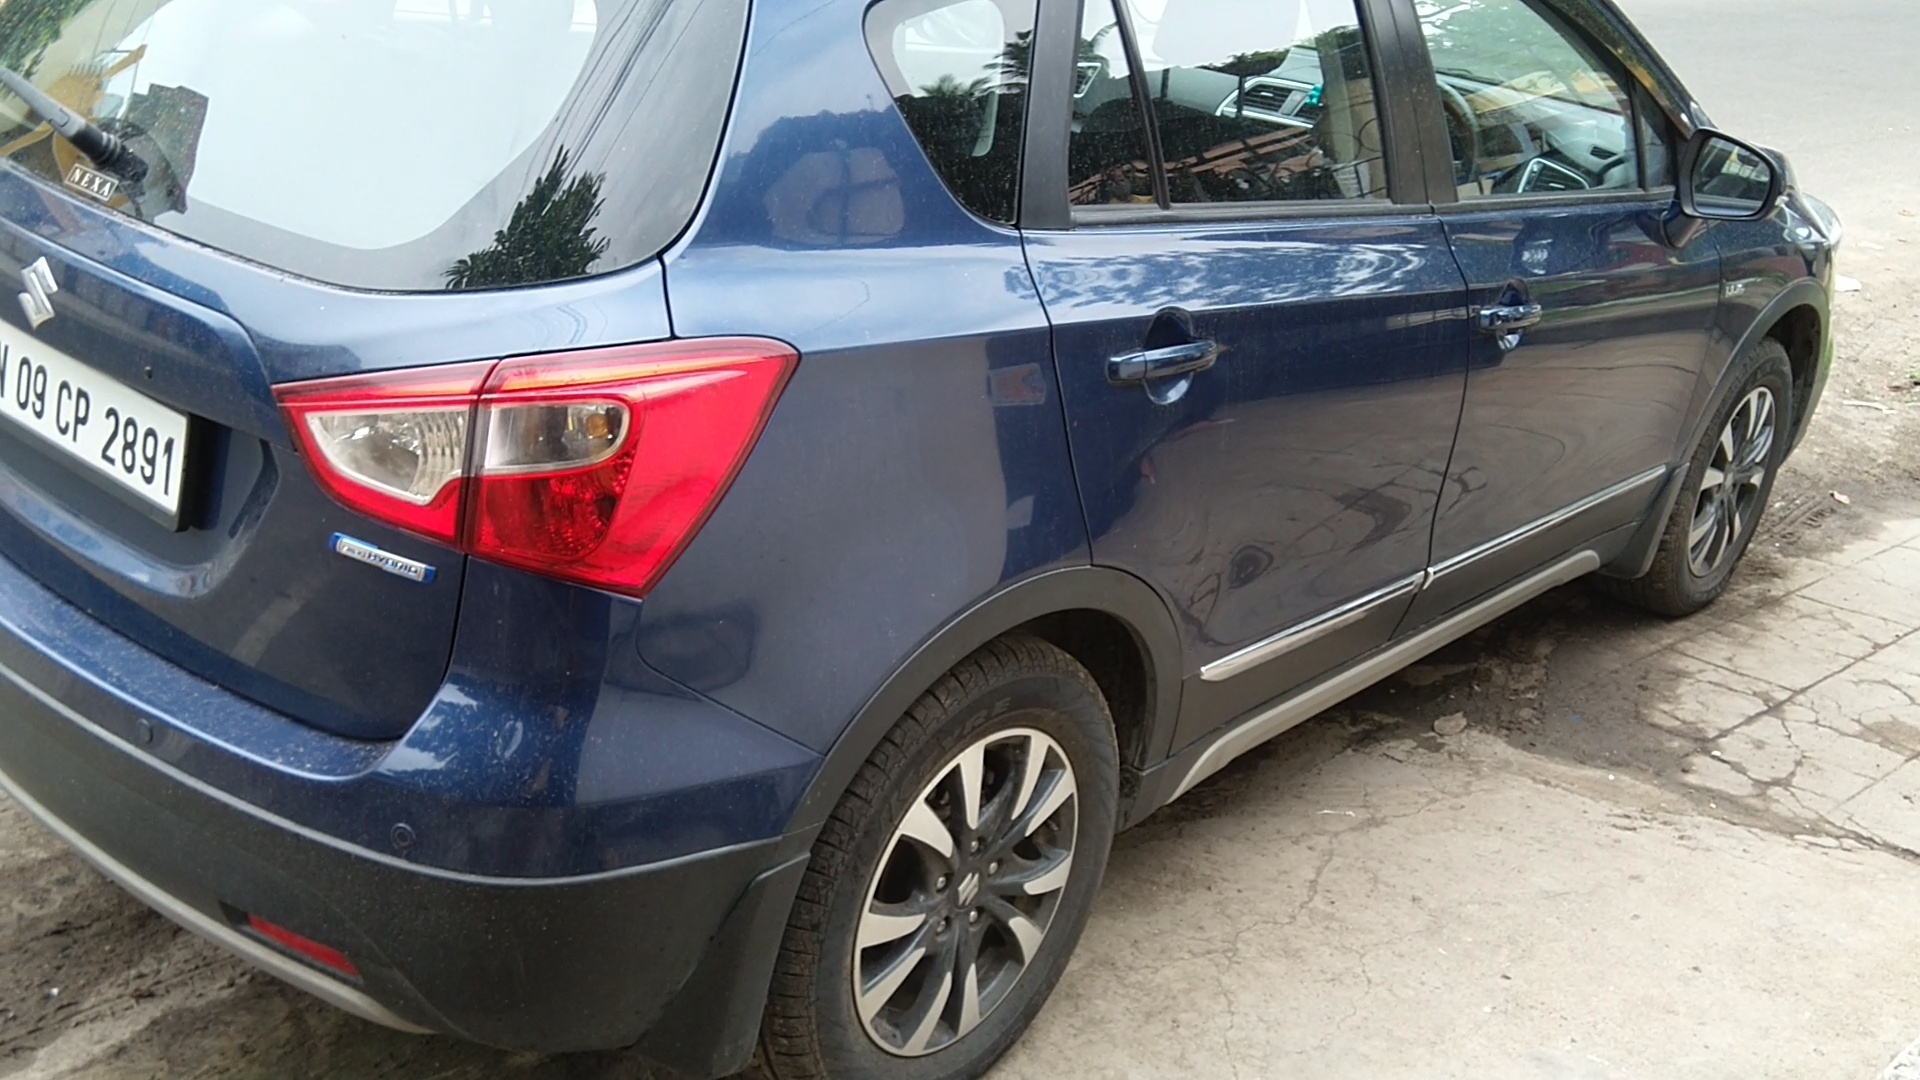alloy_wheel: (804, 650, 1129, 1080), (1646, 338, 1811, 611)
shvs: (320, 517, 446, 592)
